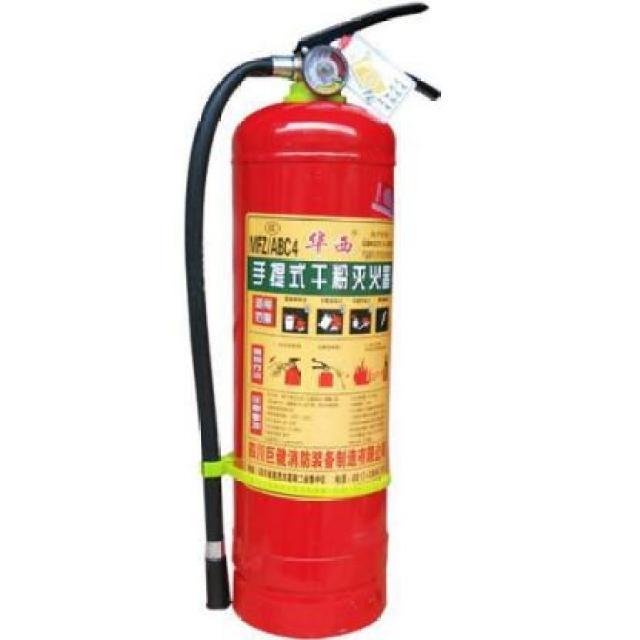fire extinguisher: (183, 1, 438, 640)
